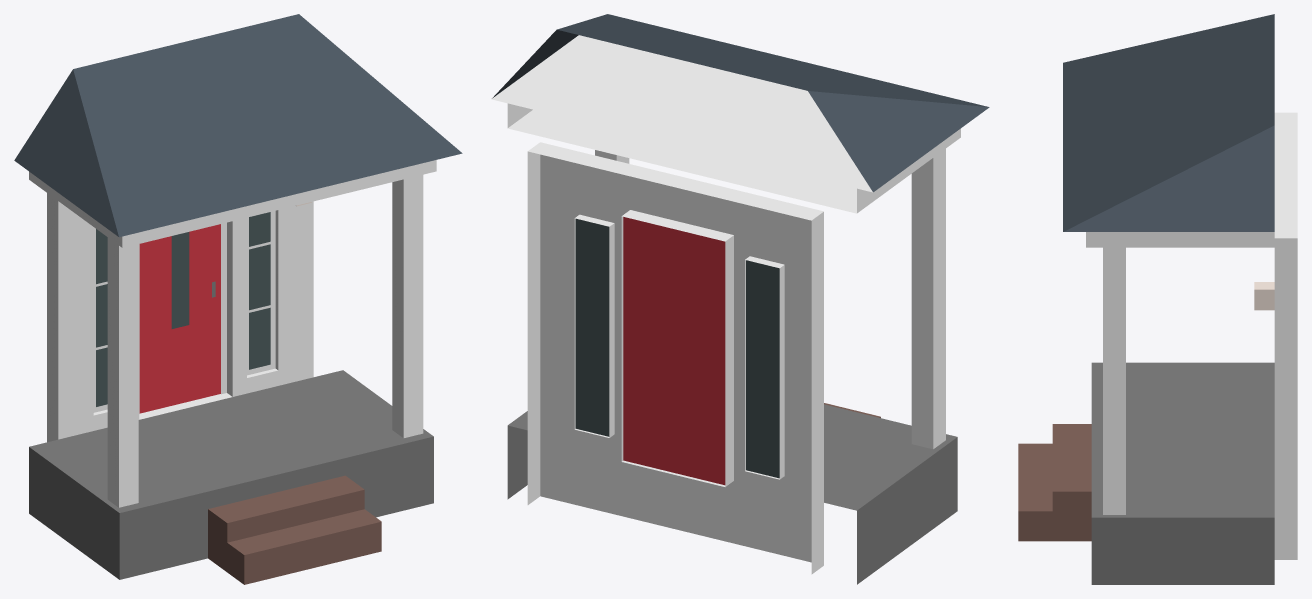
Rendered from entrance.fbx.
3 views of the same model, side by side, from view 1: azimuth 30°, elevation 25°; view 2: azimuth 150°, elevation 25°; view 3: azimuth 270°, elevation 25° (orthographic). The views are drawn at different scales.
Parts seen in each view (by area): view 1: a2000/600/entrance; view 2: a2000/600/entrance; view 3: a2000/600/entrance.
Boxes of the visible parts, x1,y1,x2,y2 form: a2000/600/entrance: [14, 14, 462, 584]; a2000/600/entrance: [491, 14, 989, 584]; a2000/600/entrance: [1018, 14, 1297, 584].
Size of the model in its own units: 3.5 by 4.22 by 2.44.
